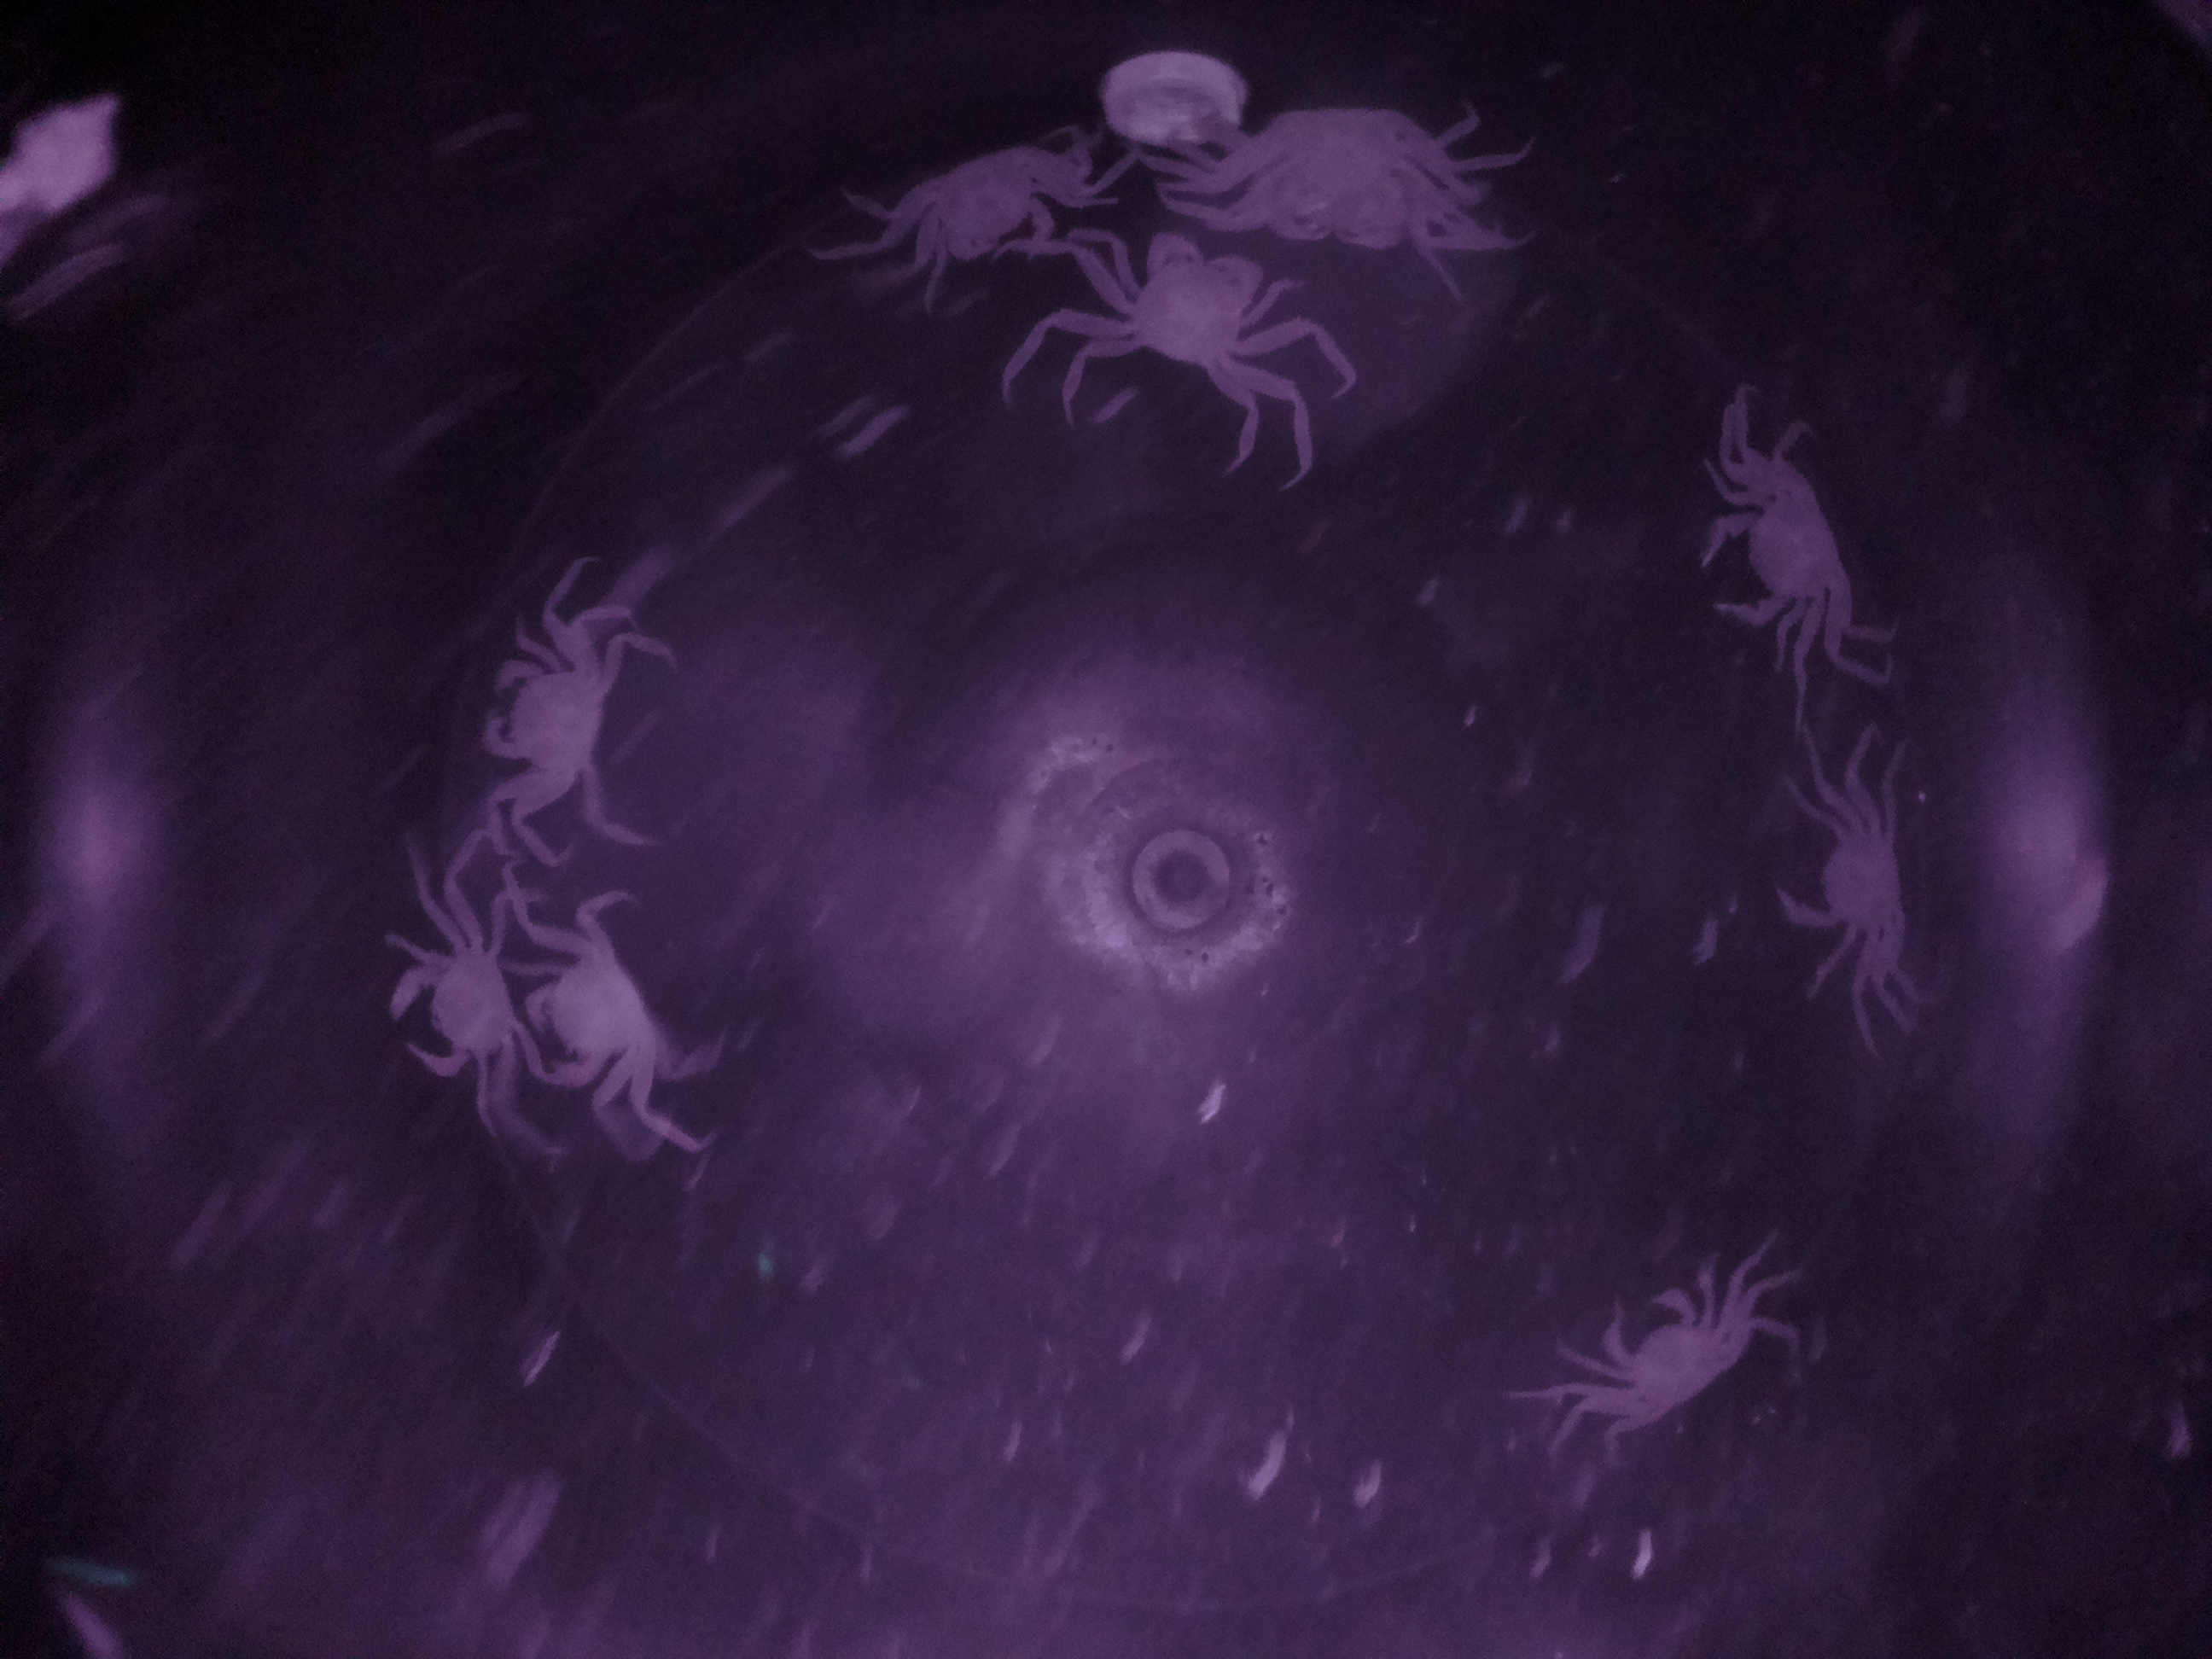Crab: (453, 619, 651, 816), (510, 913, 707, 1107), (1686, 460, 1867, 662), (1559, 1263, 1749, 1443), (880, 122, 1087, 282), (1113, 225, 1296, 406), (354, 917, 538, 1089), (1761, 786, 1937, 962)
